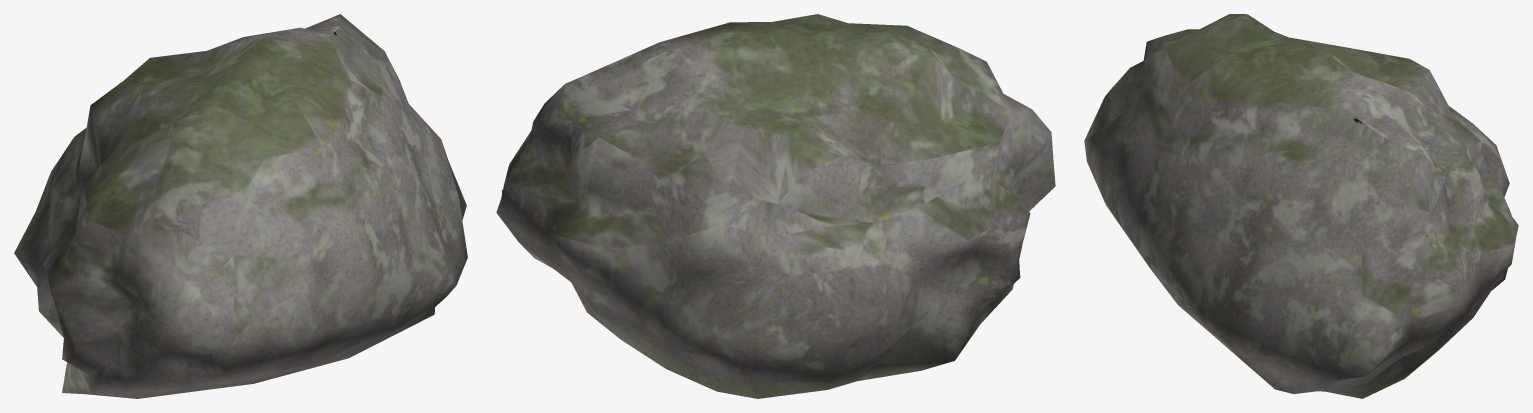
File: boulder_400_LOD1.glb
3 views of the same model, side by side, from view 1: azimuth 30°, elevation 25°; view 2: azimuth 150°, elevation 25°; view 3: azimuth 270°, elevation 25° (orthographic). The views are drawn at different scales.
Parts seen in each view (by area): view 1: Boulder_400_LOD1; view 2: Boulder_400_LOD1; view 3: Boulder_400_LOD1.
Boxes of the visible parts, box(x1,y1,x2,y2) form: Boulder_400_LOD1: box(14, 14, 467, 398); Boulder_400_LOD1: box(496, 14, 1055, 398); Boulder_400_LOD1: box(1084, 14, 1518, 398).
Size of the model in its own units: 3.75 by 2.37 by 3.17.
Materials: 1 (1 with a texture image).
